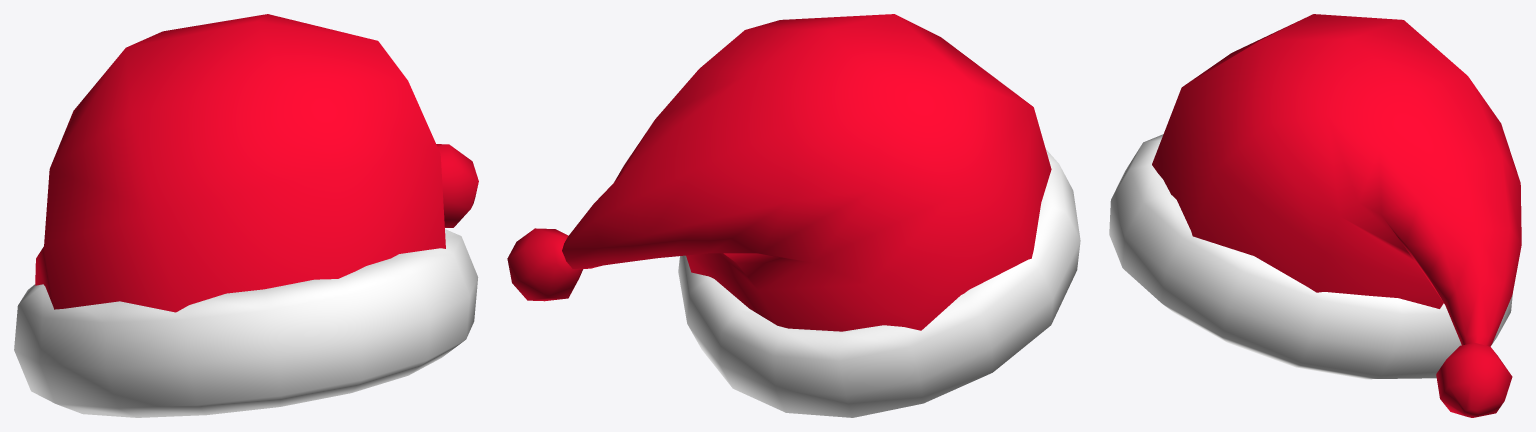
File: noel.fbx
The picture shows the model from 3 angles, left to right: view 1: azimuth 30°, elevation 25°; view 2: azimuth 150°, elevation 25°; view 3: azimuth 270°, elevation 25°; orthographic projection. The views are drawn at different scales.
Visible parts, largest first — view 1: noel_hat_mesh; view 2: noel_hat_mesh; view 3: noel_hat_mesh.
Part boxes in pixels (x1,y1,x2,y2): noel_hat_mesh: (14, 14, 478, 417); noel_hat_mesh: (507, 14, 1080, 417); noel_hat_mesh: (1109, 14, 1521, 417).
Bounding box in the file's own units: 3.4 × 2.33 × 2.71.
